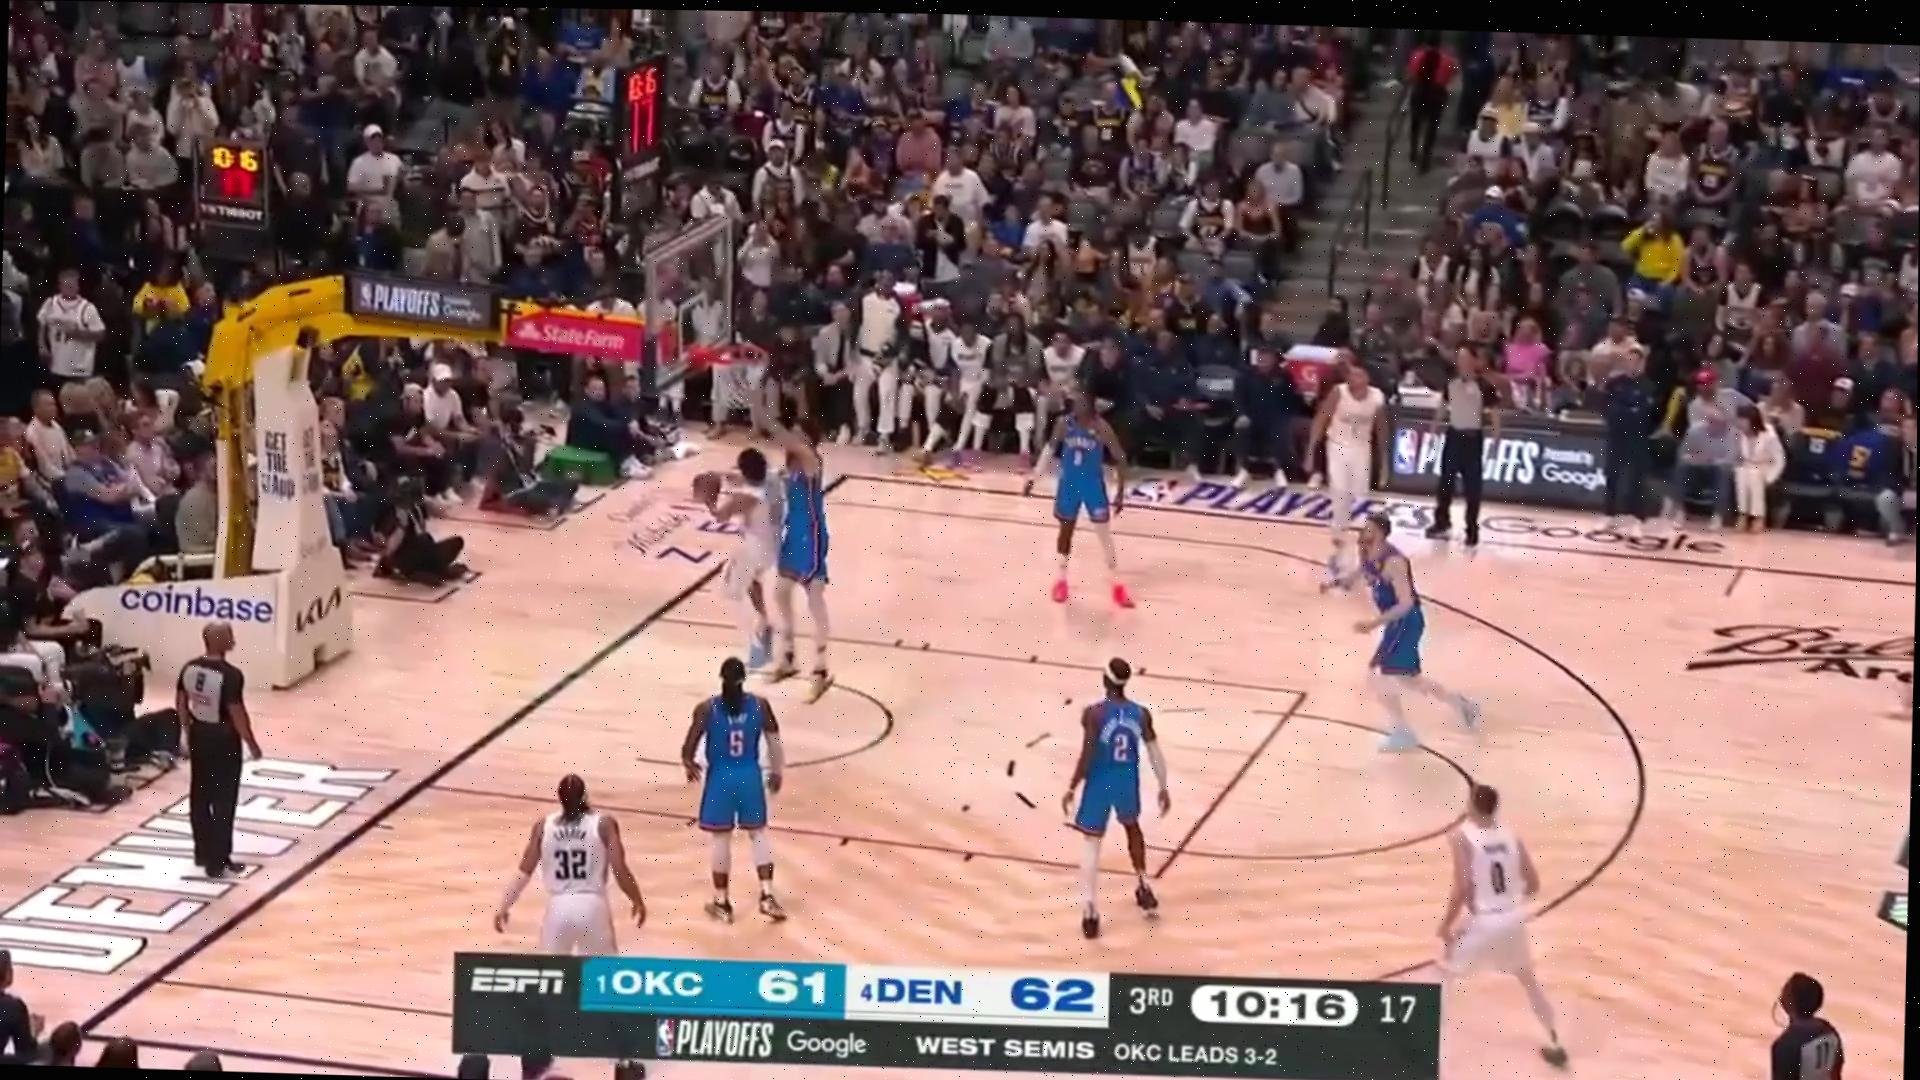foul: (685, 383, 888, 705)
